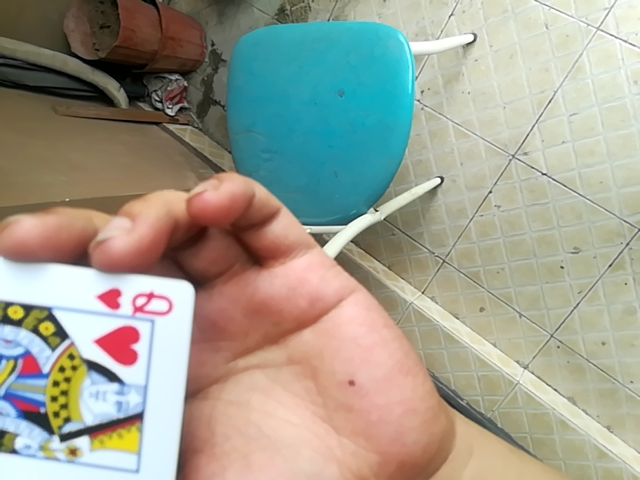hx q: (0, 244, 198, 480)
